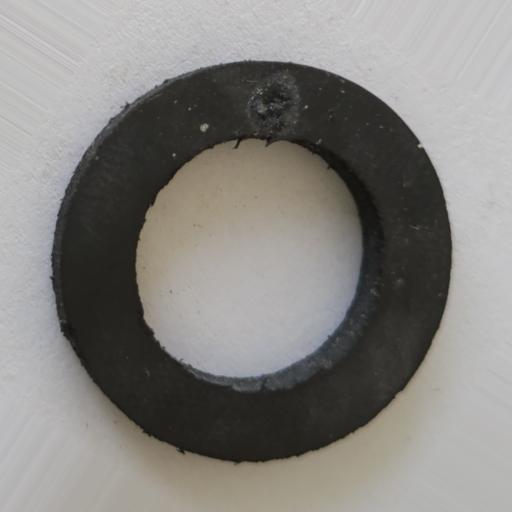defect: (247, 70, 301, 140)
